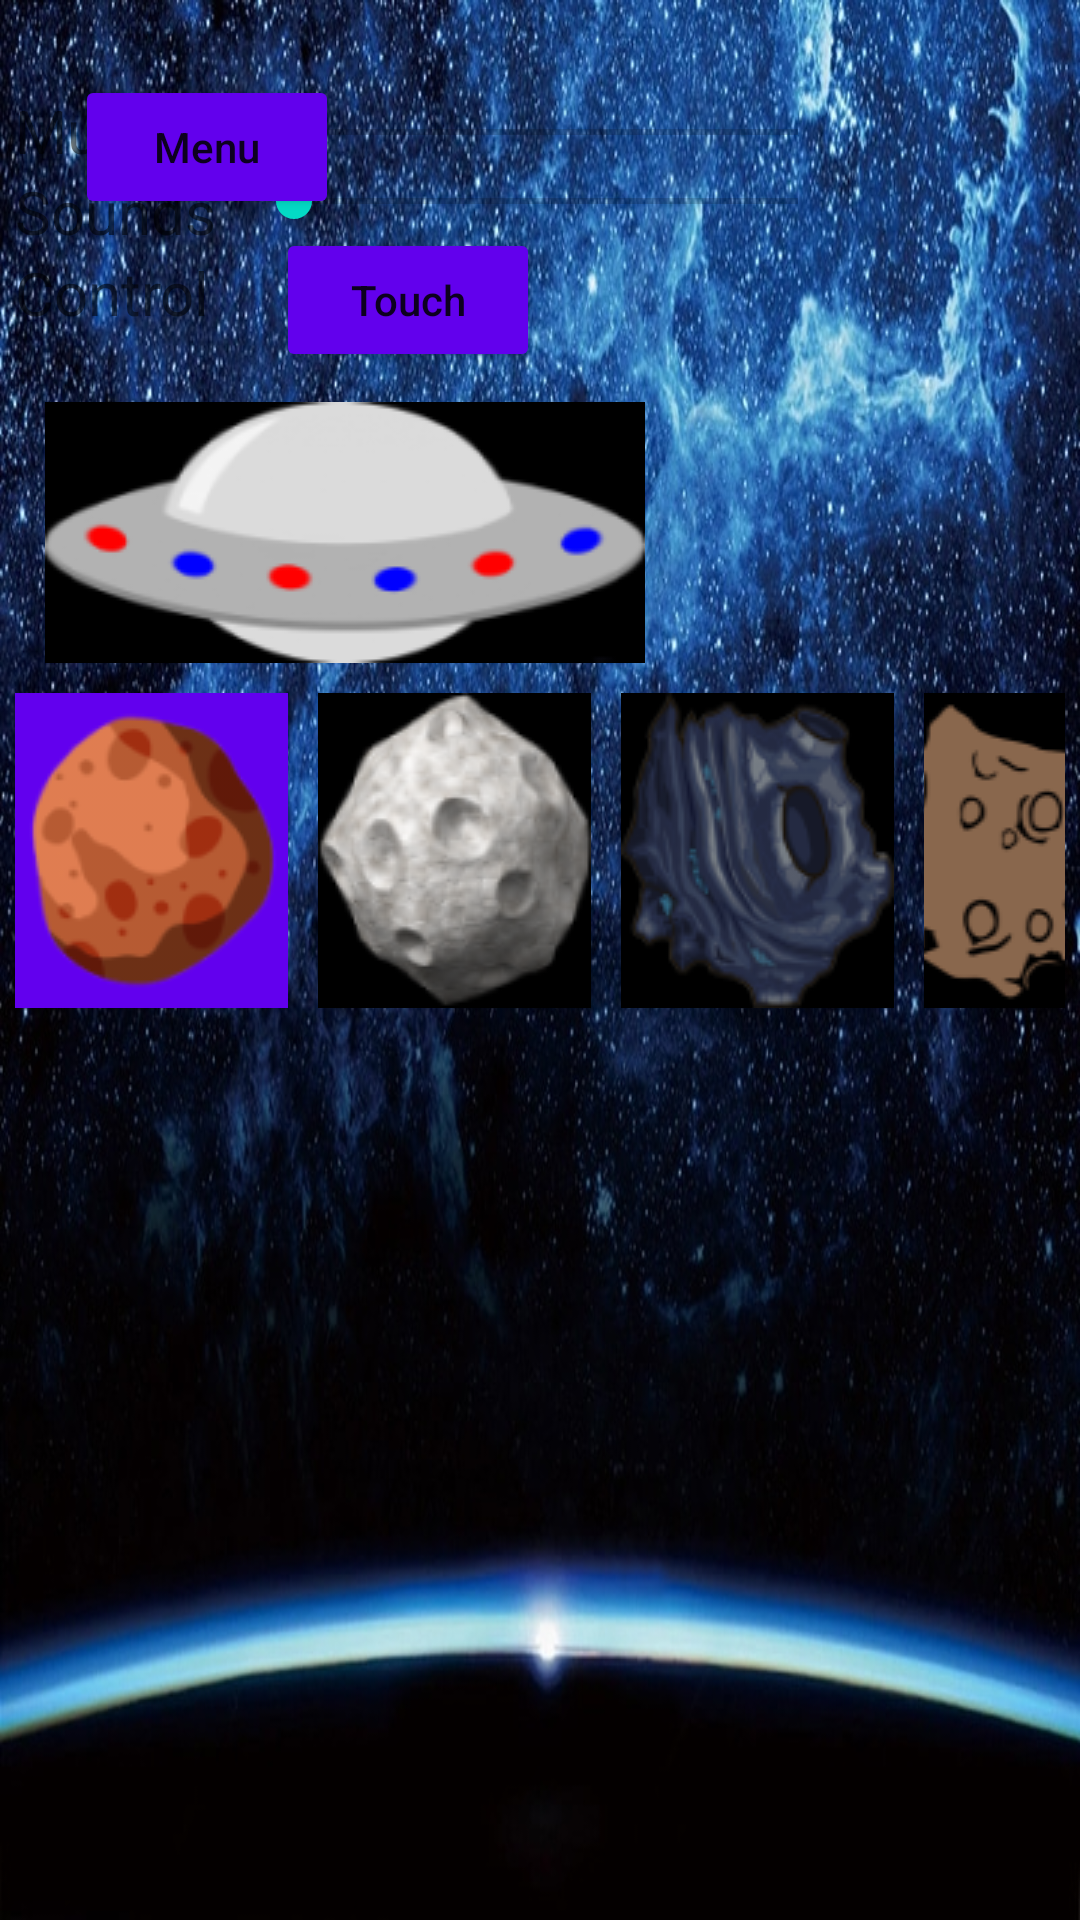

Named icons in this screenshot (1080w x 1920h) and their centers, (x=x, y=y):
meteor: (x=151, y=850), (x=454, y=850), (x=757, y=850), (x=994, y=850)
